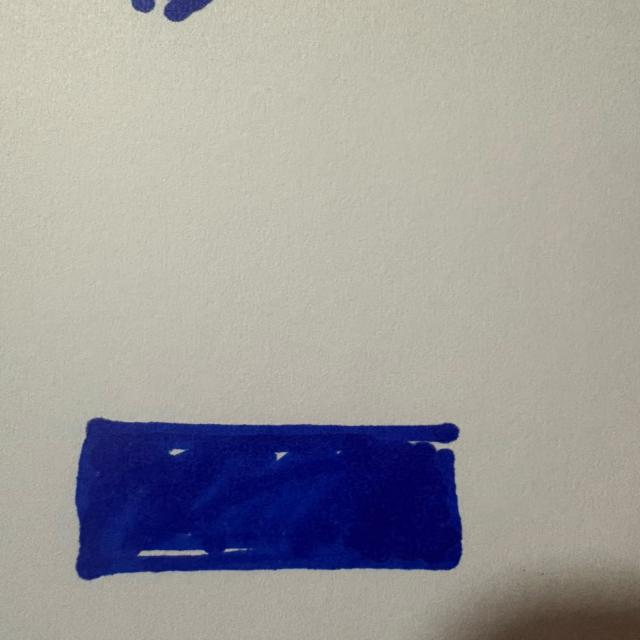Rectangle: (75, 416, 468, 581)
